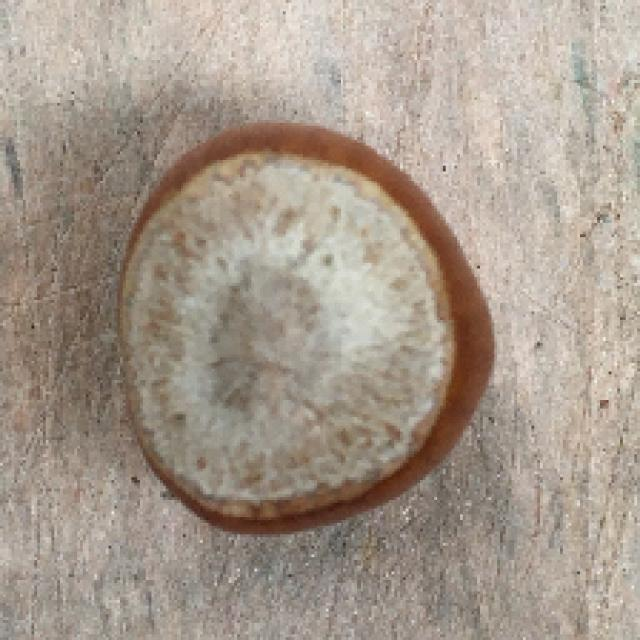qualityHazelnut: (115, 123, 498, 540)
